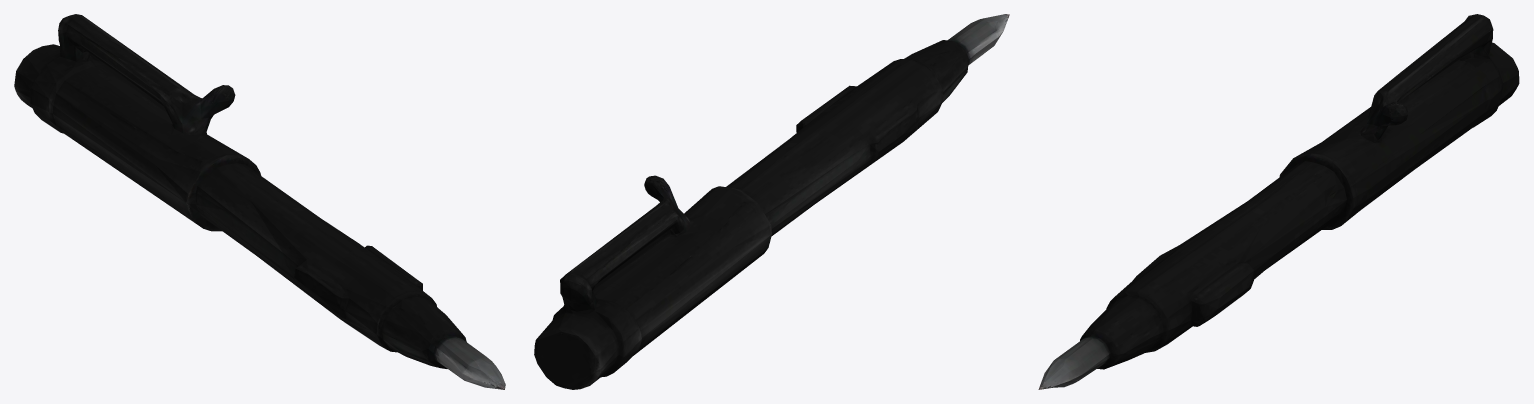
The model's file is black_pen2.glb.
3 views of the same model, side by side, from view 1: azimuth 30°, elevation 25°; view 2: azimuth 150°, elevation 25°; view 3: azimuth 330°, elevation 25° (orthographic).
Parts seen in each view (by area): view 1: geometry_0.015; view 2: geometry_0.015; view 3: geometry_0.015.
Boxes of the visible parts, left/top/right/bottom form: geometry_0.015: left=14, top=14, right=505, bottom=389; geometry_0.015: left=534, top=14, right=1009, bottom=389; geometry_0.015: left=1038, top=14, right=1519, bottom=389.
Bounding box in the file's own units: 0.016 × 0.0183 × 0.1376.
1 material, 1 textured.
